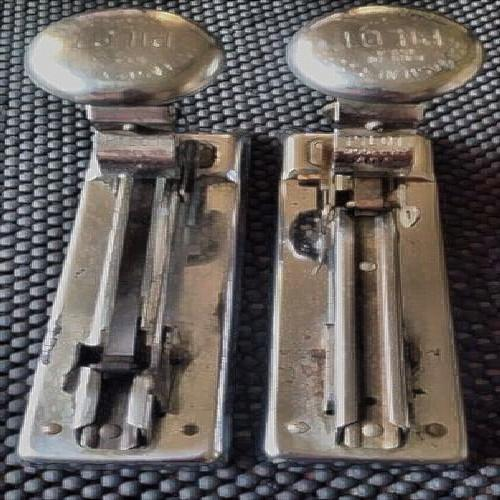stapler: (278, 20, 475, 462), (40, 38, 233, 471)
